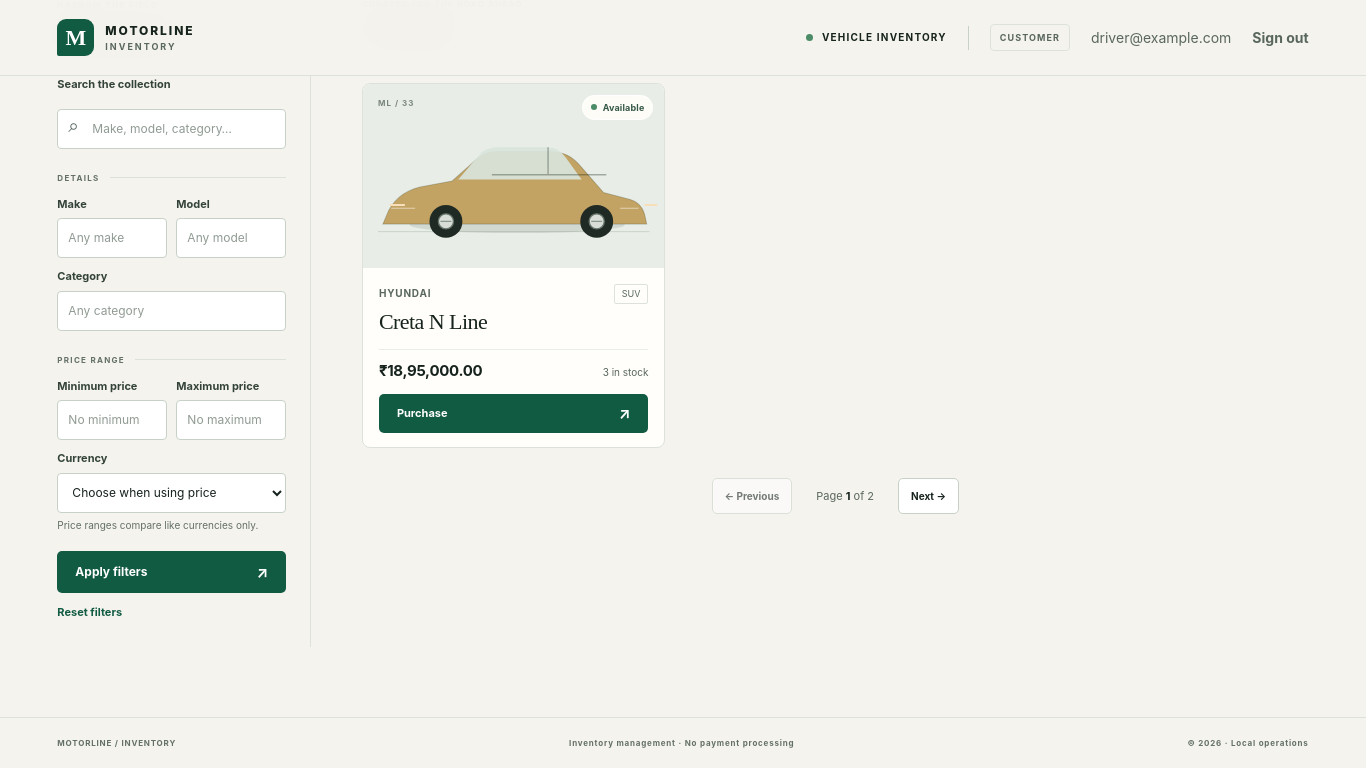
it: Motorline Inventory SPA › navigates between catalog pages while preserving the requested page size
(page scrolled)
Expected: the heading "Creta N Line" is shown, x1=379 y1=309 x2=487 y2=334
Click the button "Next →". click: (928, 496)
box: x1=898 y1=478 x2=959 y2=514
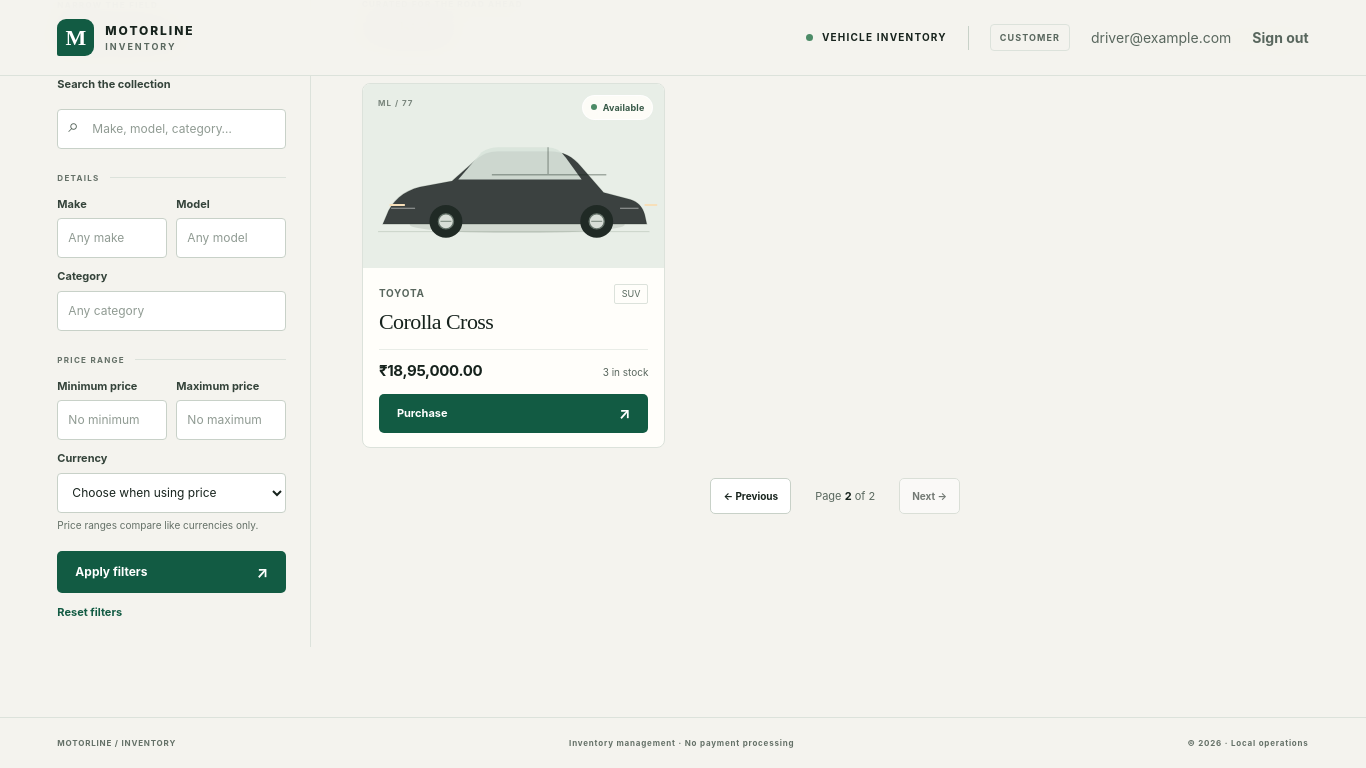
Expected: the heading "Corolla Cross" is shown, x1=379 y1=309 x2=493 y2=334
Expected: the navigation bar named "Vehicle pages" shows "Page 2 of 2", x1=710 y1=478 x2=960 y2=514
Click the button "← Previous". click: (751, 496)
box: x1=710 y1=478 x2=791 y2=514
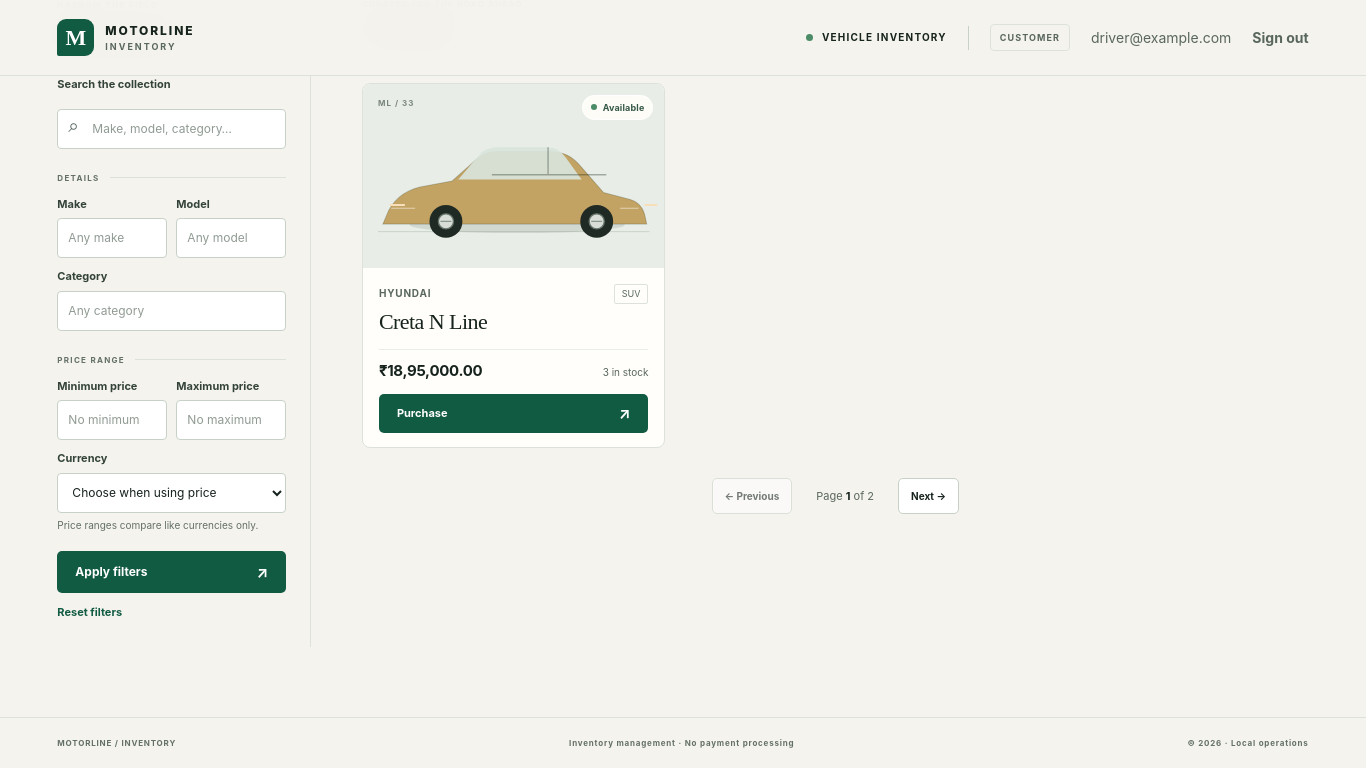
Expected: the heading "Creta N Line" is shown, x1=379 y1=309 x2=487 y2=334
